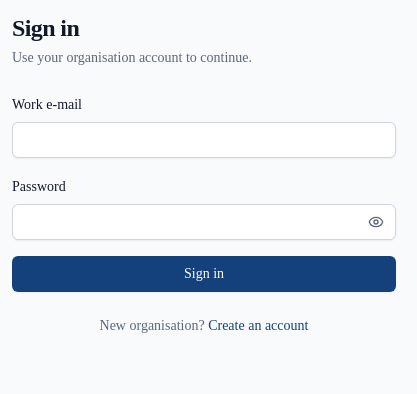
Scenario: login page › validates required fields before calling the API
This screenshot has width=417, height=394.
Click the button "Sign in" at [204, 274], box [12, 256, 396, 292]
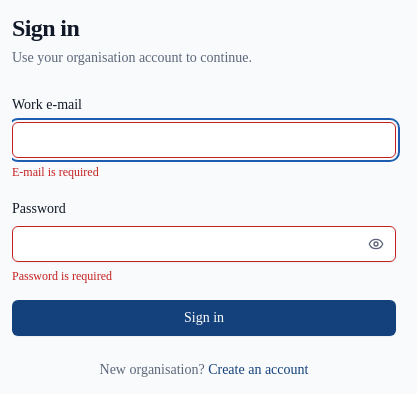
Expected: the text "E-mail is required" is shown, [12, 165, 99, 179]
Expected: the text "Password is required" is shown, [12, 269, 112, 283]
